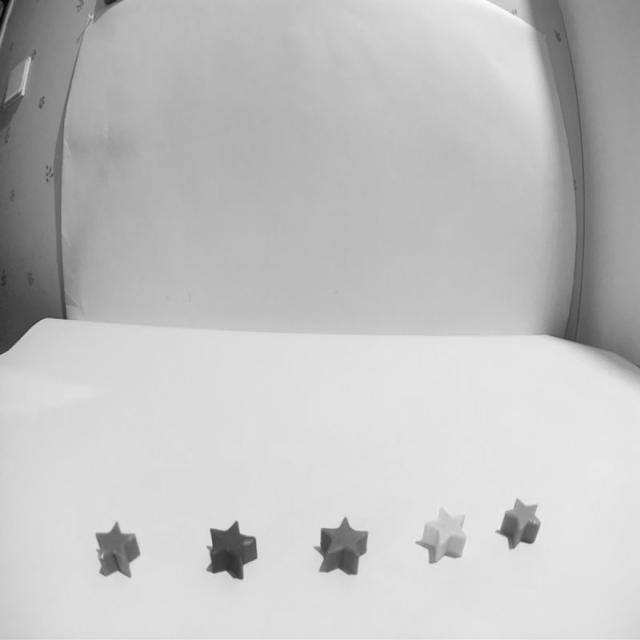star: (314, 516, 370, 576), (205, 520, 258, 579), (415, 506, 468, 564), (94, 520, 141, 579), (495, 496, 541, 548)
